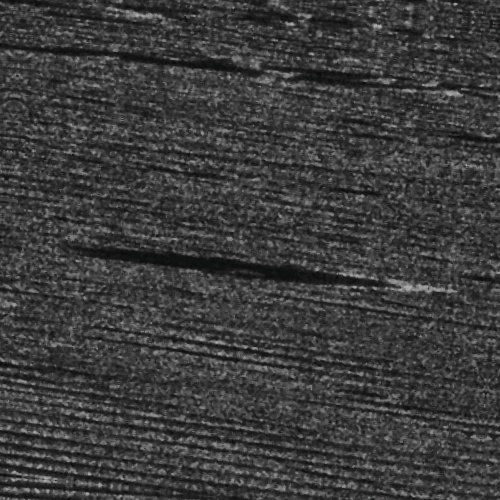object: (372, 68, 445, 73), (350, 60, 381, 65)
shadow: (129, 264, 425, 267), (250, 60, 365, 65), (295, 68, 408, 73)
